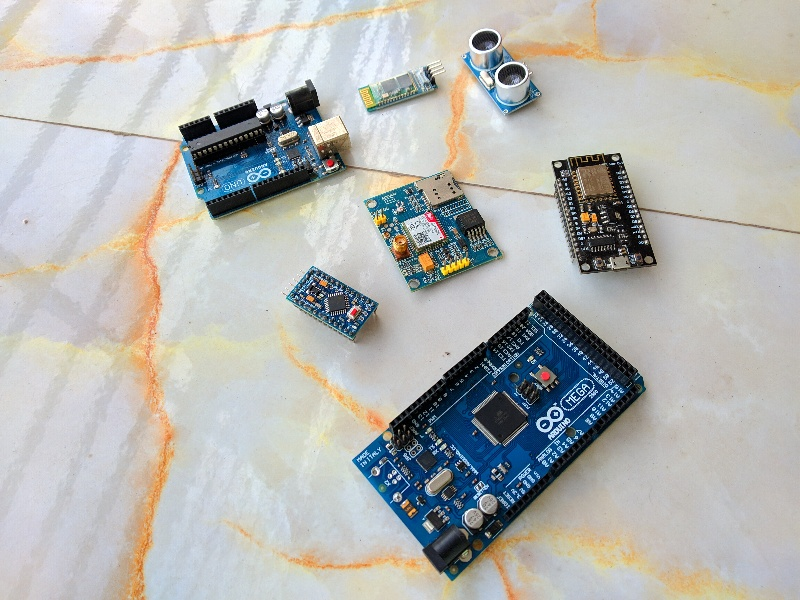Arduino Mega 2560: (346, 289, 651, 585)
Arduino Pro Mini: (281, 263, 378, 341)
Arduino UNO: (174, 76, 358, 228)
HC-05: (359, 63, 442, 116)
NodeMCU: (548, 148, 663, 278)
SIM800: (363, 169, 513, 291)
Sonar Sensor: (456, 25, 548, 121)
